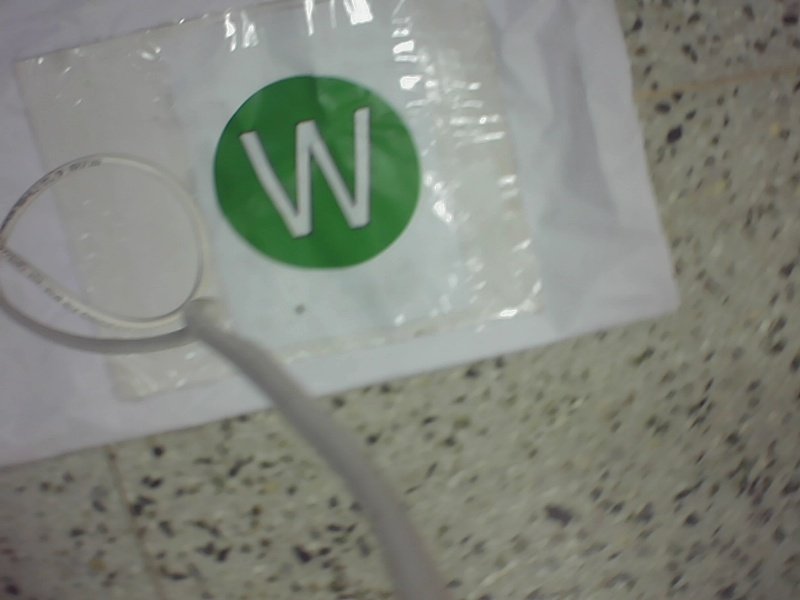areaB: (196, 67, 439, 271)
